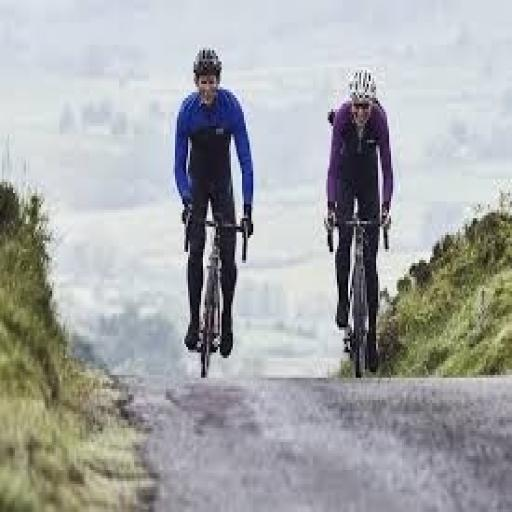cycling: (171, 44, 257, 364), (322, 67, 399, 375)
